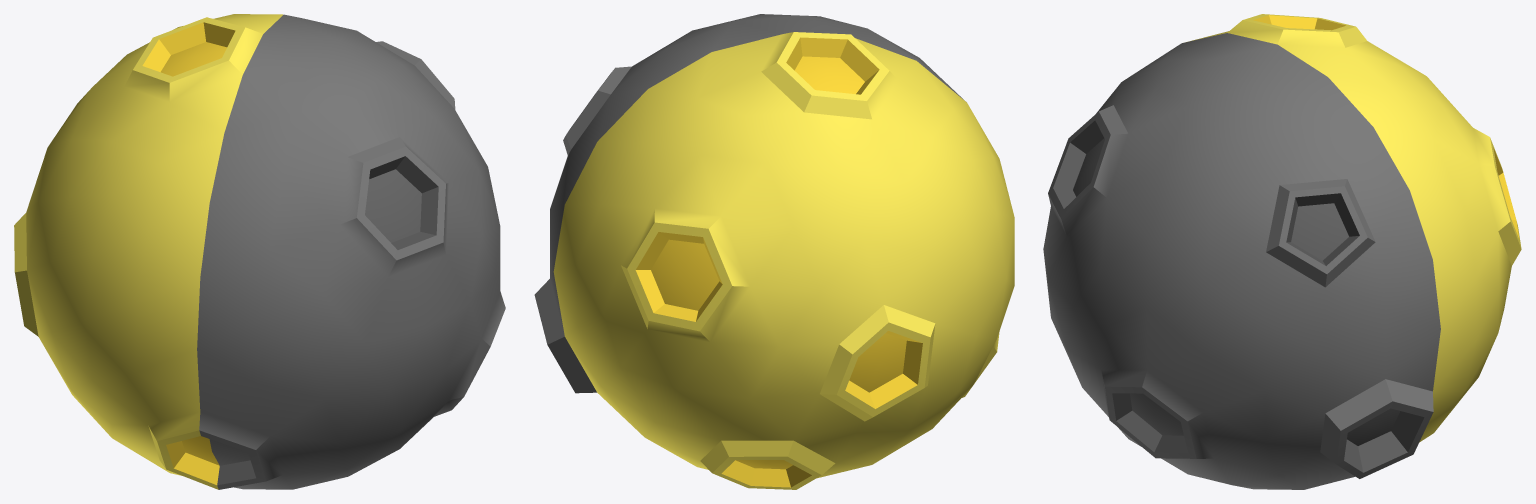
The model's file is Waxing Gibbous Moon.gltf.
The picture shows the model from 3 angles, left to right: view 1: azimuth 30°, elevation 25°; view 2: azimuth 150°, elevation 25°; view 3: azimuth 270°, elevation 25°; orthographic projection. The views are drawn at different scales.
Parts seen in each view (by area): view 1: Icosphere.003; view 2: Icosphere.003; view 3: Icosphere.003.
Boxes of the visible parts, x1,y1,x2,y2 form: Icosphere.003: [14, 14, 505, 489]; Icosphere.003: [534, 14, 1014, 489]; Icosphere.003: [1043, 14, 1521, 489].
Size of the model in its own units: 1.97 by 2.04 by 2.03.
Materials: 1 (1 with a texture image).
